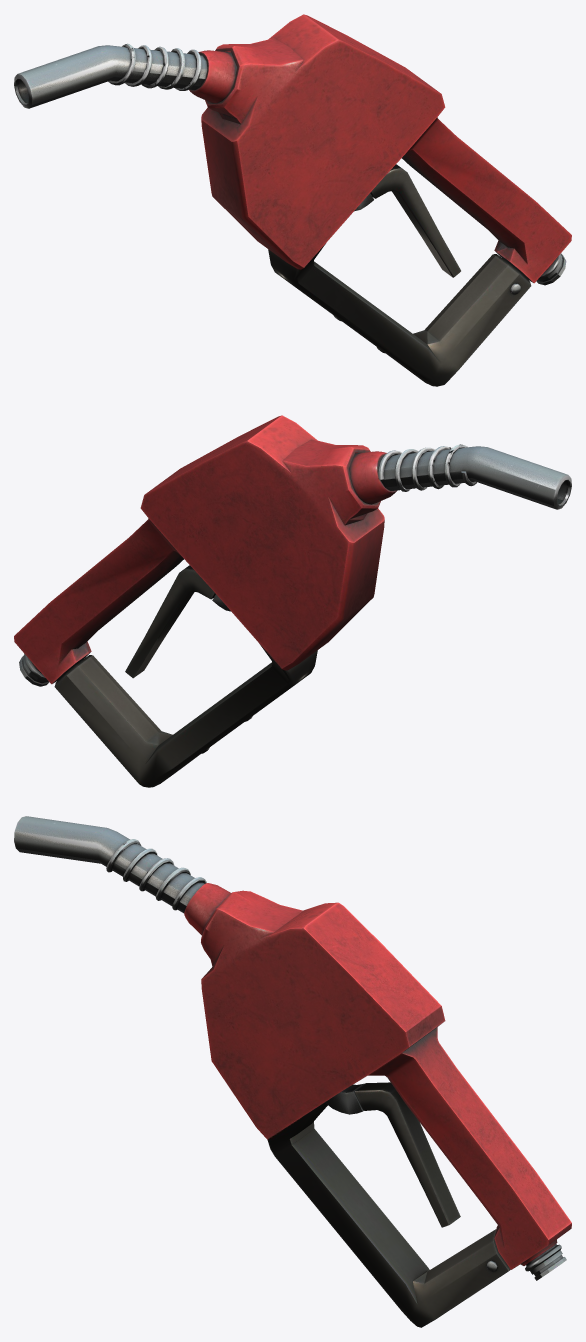
The model's file is Fuel Nozel.fbx.
The picture shows the model from 3 angles, top to bottom: view 1: azimuth 30°, elevation 25°; view 2: azimuth 150°, elevation 25°; view 3: azimuth 330°, elevation 25°; orthographic projection.
Visible parts, largest first — view 1: Fuel_Pump_Handgrip__001_Blue (Nozzle)_0; view 2: Fuel_Pump_Handgrip__001_Blue (Nozzle)_0; view 3: Fuel_Pump_Handgrip__001_Blue (Nozzle)_0.
Boxes of the visible parts, bbox=[...] form: Fuel_Pump_Handgrip__001_Blue (Nozzle)_0: bbox=[14, 14, 571, 386]; Fuel_Pump_Handgrip__001_Blue (Nozzle)_0: bbox=[14, 415, 571, 787]; Fuel_Pump_Handgrip__001_Blue (Nozzle)_0: bbox=[14, 816, 571, 1327].
Size of the model in its own units: 0.3826 by 0.278 by 0.044.
